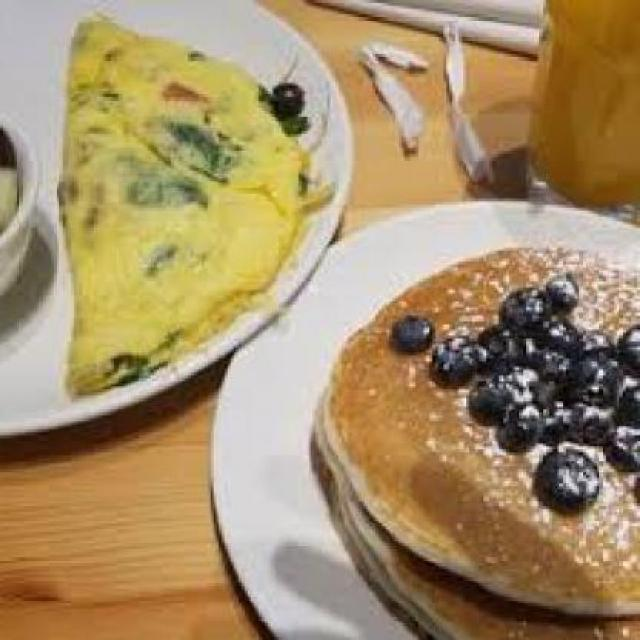omelette: (51, 14, 318, 401)
